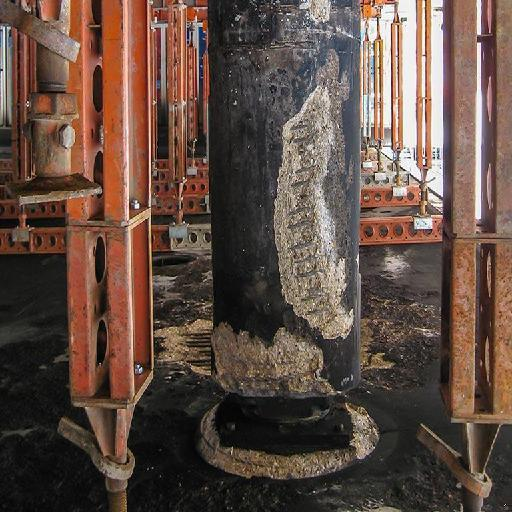exposed_rebar: (233, 369, 320, 385), (232, 361, 299, 368), (297, 266, 320, 277), (291, 239, 314, 250), (288, 206, 313, 216), (289, 220, 313, 228), (302, 295, 323, 303), (295, 166, 313, 174), (297, 256, 315, 263), (293, 181, 310, 188), (292, 138, 312, 143), (292, 125, 307, 130), (310, 309, 320, 315), (299, 194, 307, 199), (298, 150, 305, 155)
spalling: (274, 52, 358, 338), (196, 402, 379, 480), (212, 323, 336, 397)
